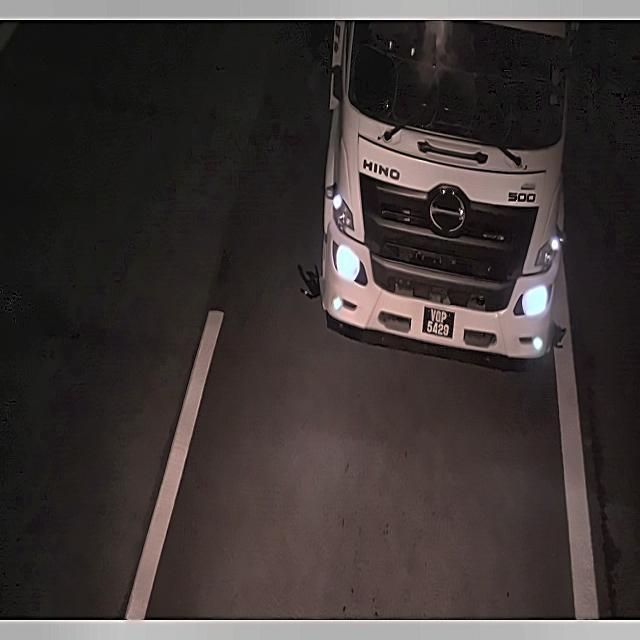car: (418, 295, 458, 349)
